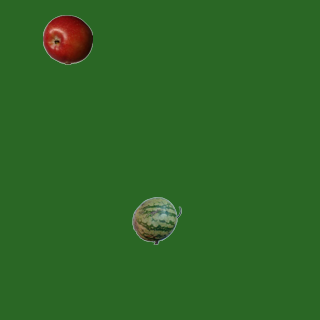Apple Braeburn: (42, 14, 92, 64)
Watermelon: (131, 195, 181, 245)
